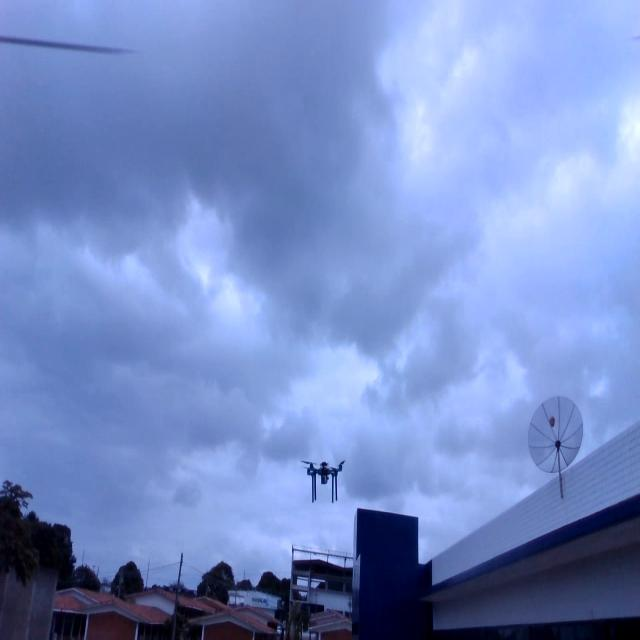-uav-: (296, 451, 351, 508)
